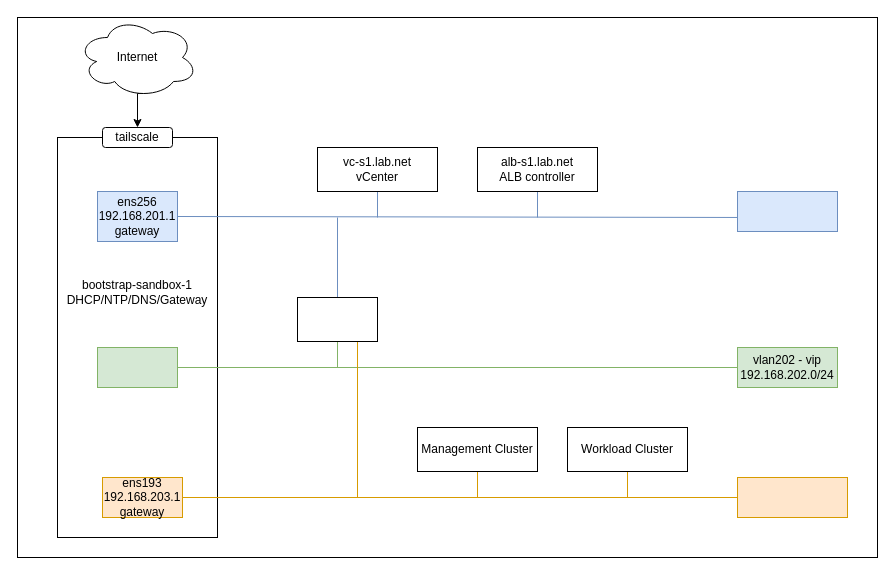
Some shapes in this 895 by 575 pixel diagram are drawn without their labels. The centre of each missing label's shape, as x and y in pixels:
AVI-SE: (337,319)
ens161 192.168.202.1 gateway: (137,367)
vlan201 - mgmt 192.168.201.0/24: (787,211)
vlan203 - workload 192.168.203.0/24: (792,497)
